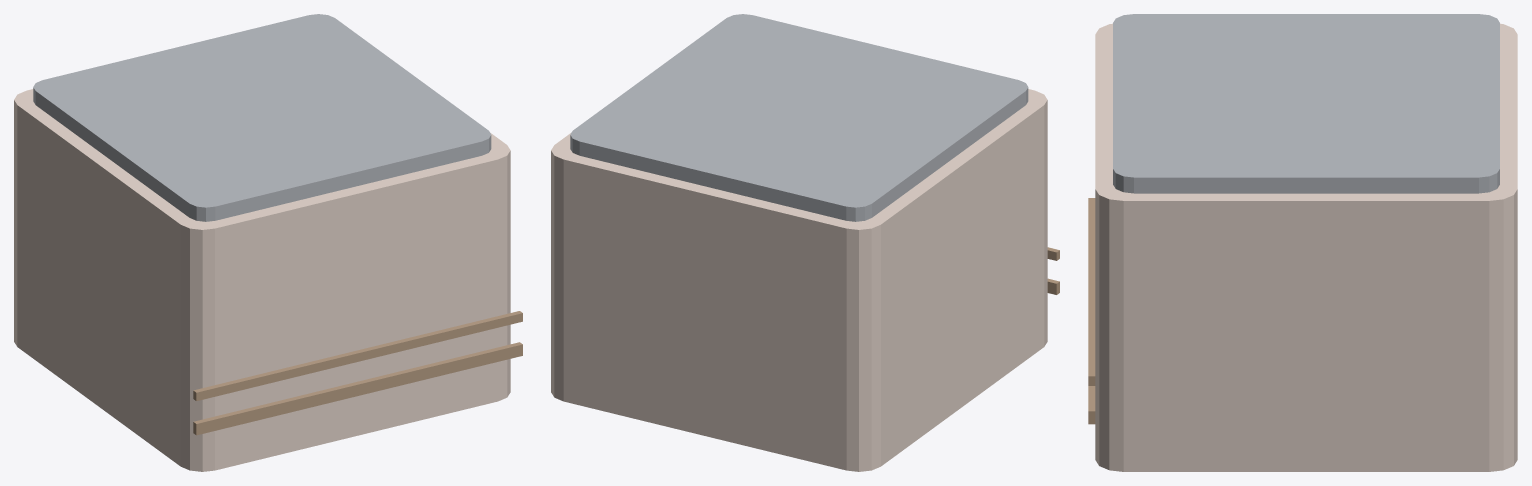
The model's file is city_gallery_plinth.glb.
3 views of the same model, side by side, from view 1: azimuth 30°, elevation 25°; view 2: azimuth 150°, elevation 25°; view 3: azimuth 270°, elevation 25° (orthographic). The views are drawn at different scales.
Parts seen in each view (by area): view 1: CityGalleryPlinth_Body, CityGalleryPlinth_Plate, CityGalleryPlinth_Strata0, CityGalleryPlinth_Strata1; view 2: CityGalleryPlinth_Body, CityGalleryPlinth_Plate; view 3: CityGalleryPlinth_Body, CityGalleryPlinth_Plate, CityGalleryPlinth_Strata1.
Part boxes in pixels (<box>): CityGalleryPlinth_Body: <box>14,89,510,471</box>; CityGalleryPlinth_Plate: <box>33,14,491,221</box>; CityGalleryPlinth_Strata0: <box>193,342,522,435</box>; CityGalleryPlinth_Strata1: <box>193,311,522,401</box>; CityGalleryPlinth_Body: <box>551,89,1047,471</box>; CityGalleryPlinth_Plate: <box>570,14,1028,221</box>; CityGalleryPlinth_Body: <box>1095,23,1517,471</box>; CityGalleryPlinth_Plate: <box>1113,14,1499,193</box>; CityGalleryPlinth_Strata1: <box>1088,198,1095,385</box>.
Bounding box in the file's own units: 1.2 × 0.9 × 1.22.
